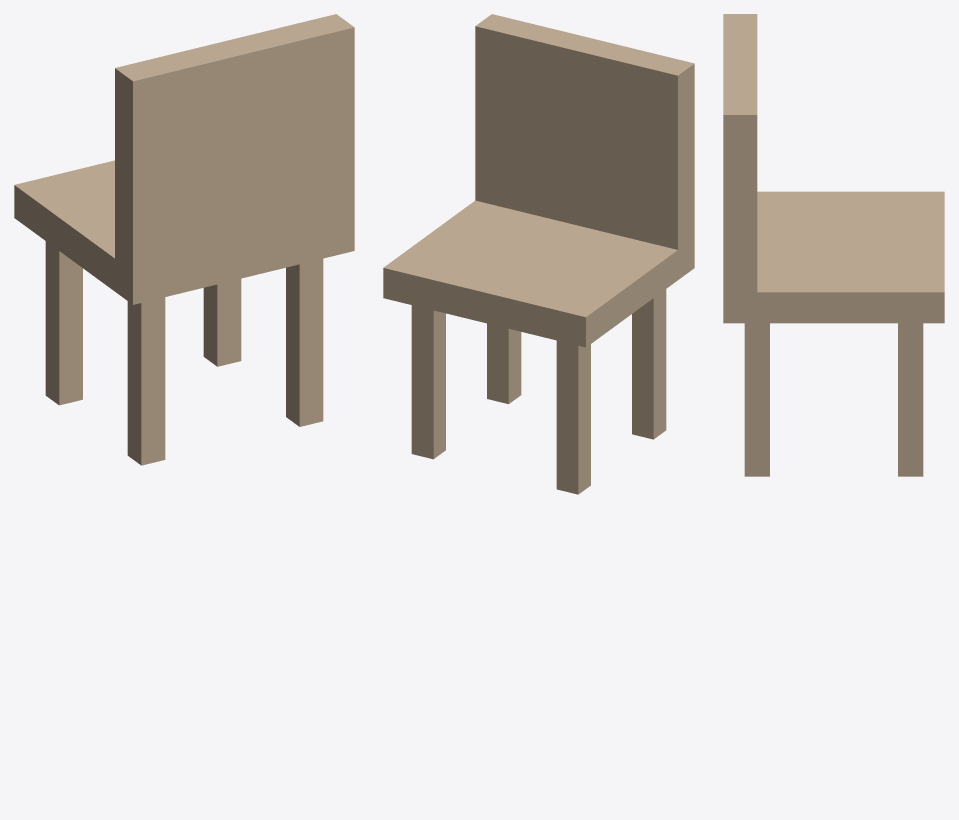
File: chair.glb
3 renders of one model, left to right at view 1: azimuth 30°, elevation 25°; view 2: azimuth 150°, elevation 25°; view 3: azimuth 270°, elevation 25°, orthographic. The views are drawn at different scales.
Size of the model in its own units: 0.56 by 1.92 by 0.52.
